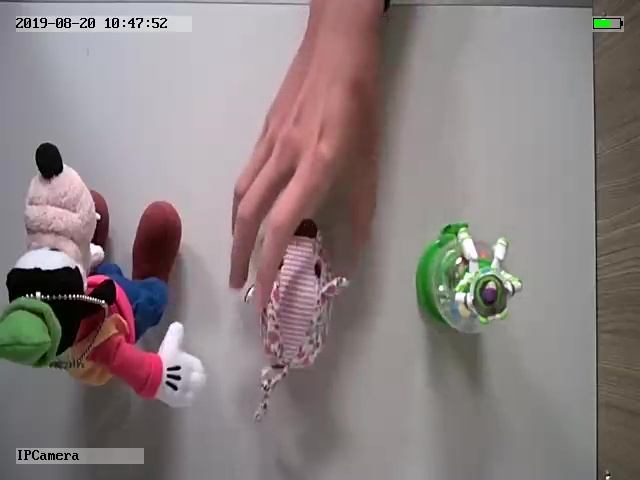buzz: (413, 219, 526, 337)
goofy: (1, 141, 208, 411)
pig: (245, 217, 350, 422)
